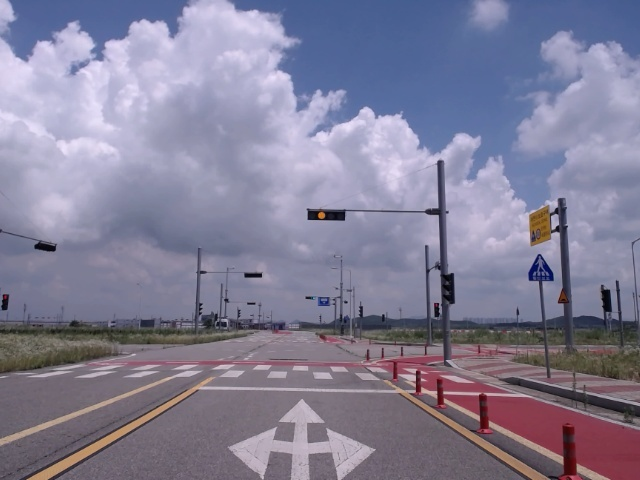orange_4: (309, 209, 347, 220)
